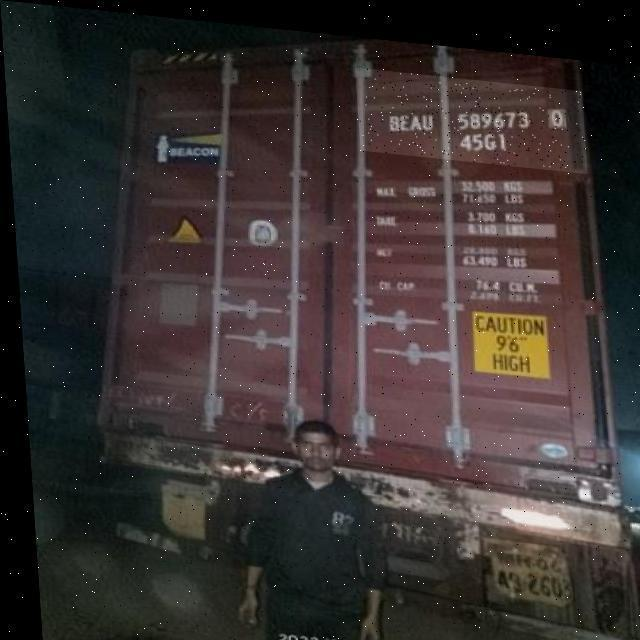container_number_h: (355, 60, 586, 161)
